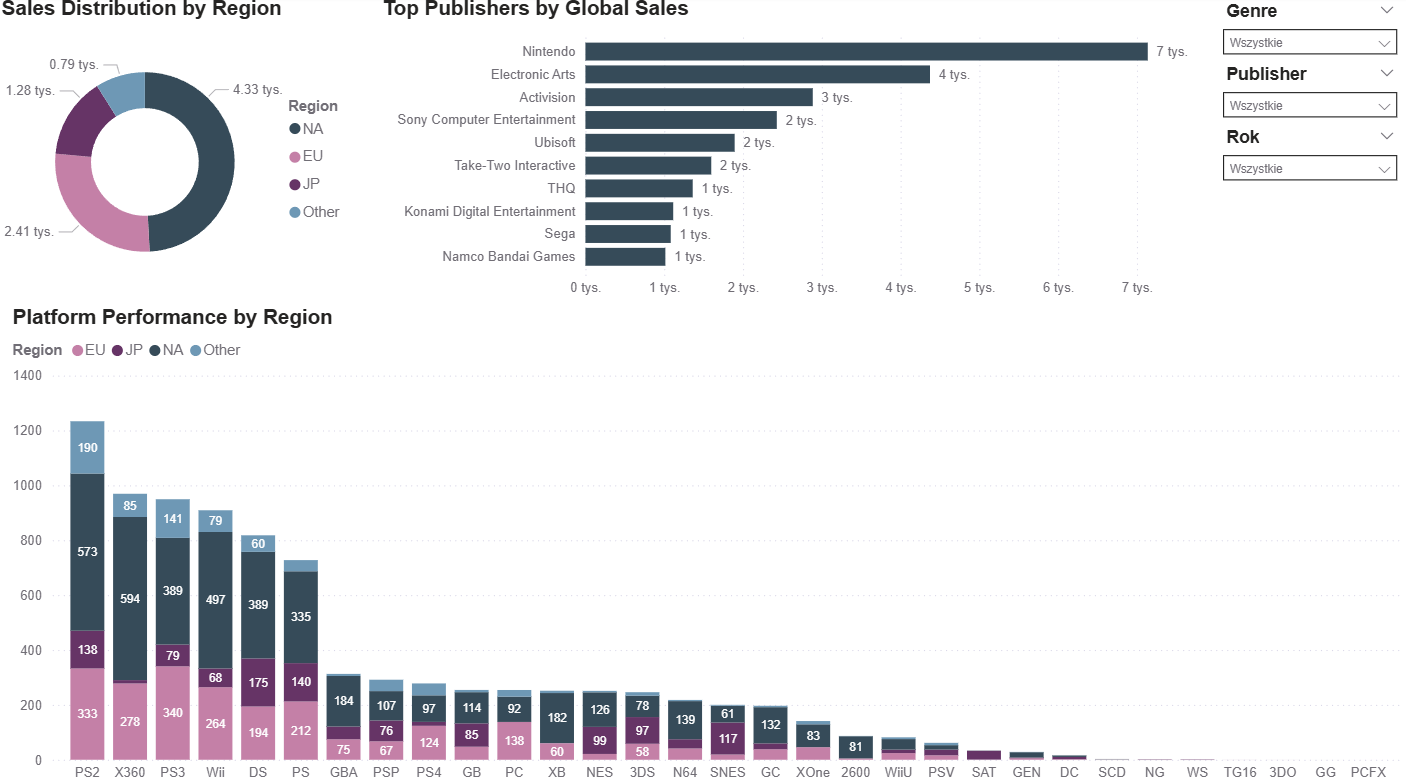

What the dashboard file says about the page in this screenshot:
{"tool":"powerbi","page":{"name":"Regional & Product Analysis","canvas":[1280,720],"ordinal":1},"visuals":[{"type":"donutChart","title":"Sales Distribution by Region","fields":{"Category":["vgsales.Region"],"Y":["Sum(vgsales.Sales)"]},"box":[0,0,335,280],"z":0},{"type":"columnChart","title":"Platform Performance by Region","fields":{"Category":["vgsales.Platform"],"Y":["Sum(vgsales.Sales)"],"Series":["vgsales.Region"]},"box":[10,280.2,1270.4,440.7],"z":1000},{"type":"barChart","title":"Top Publishers by Global Sales","fields":{"Category":["vgsales.Publisher"],"Y":["Sum(vgsales.Global_Sales)"]},"box":[345.5,0,757.2,280.2],"z":2000},{"type":"slicer","fields":{"Values":["vgsales.Genre"]},"box":[1102.7,0,177.7,57.1],"z":3000},{"type":"slicer","fields":{"Values":["vgsales.Publisher"]},"box":[1102.7,57.1,177.7,57.1],"z":4000},{"type":"slicer","fields":{"Values":["vgsales.Year.Odmiana.Hierarchia dat.Rok"]},"box":[1102.7,114.3,177.7,57.1],"z":5000}]}

Visuals, with their boxes in screenshot pixels (x1, y1, x2, y2), scaled from the page's 1280x720 canvas onto the 1406x784 screenshot:
"Sales Distribution by Region" donutChart: locate(0, 0, 368, 305)
"Platform Performance by Region" columnChart: locate(11, 305, 1405, 783)
"Top Publishers by Global Sales" barChart: locate(380, 0, 1211, 305)
slicer - vgsales.Genre: locate(1211, 0, 1405, 62)
slicer - vgsales.Publisher: locate(1211, 62, 1405, 124)
slicer - vgsales.Year.Odmiana.Hierarchia dat.Rok: locate(1211, 124, 1405, 187)
